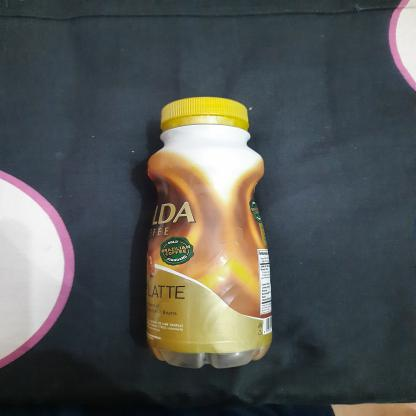bottle: (137, 94, 286, 372)
